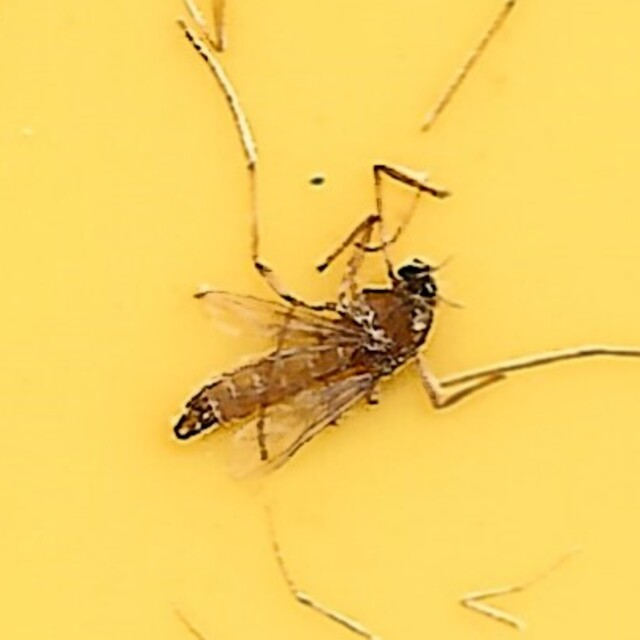Nematocera: (158, 164, 482, 476)
